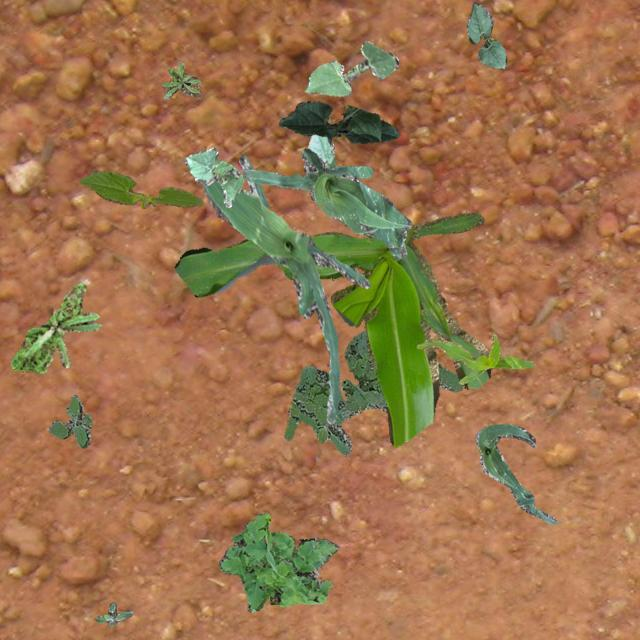crop: (173, 212, 490, 446), (201, 154, 369, 422), (242, 148, 410, 258), (473, 422, 558, 524), (416, 332, 532, 383), (304, 40, 396, 96), (277, 100, 398, 142), (78, 168, 202, 208), (184, 147, 242, 206), (466, 1, 506, 68), (302, 132, 338, 172)
weed: (284, 328, 462, 454), (218, 512, 338, 612), (10, 282, 100, 372), (48, 394, 90, 446), (160, 61, 200, 99), (94, 600, 132, 626)
